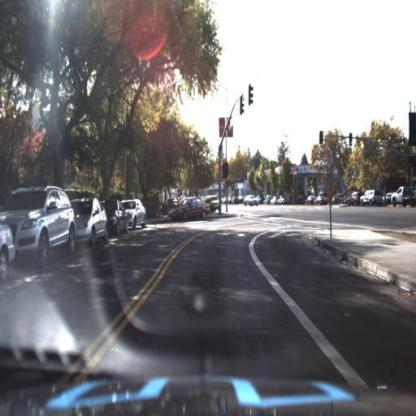car: (14, 182, 77, 273), (71, 194, 109, 251), (166, 192, 215, 228), (1, 219, 16, 282), (125, 197, 150, 233), (107, 199, 127, 242), (359, 185, 386, 209), (345, 192, 365, 210), (241, 194, 261, 210), (206, 193, 222, 212), (382, 192, 397, 205)
